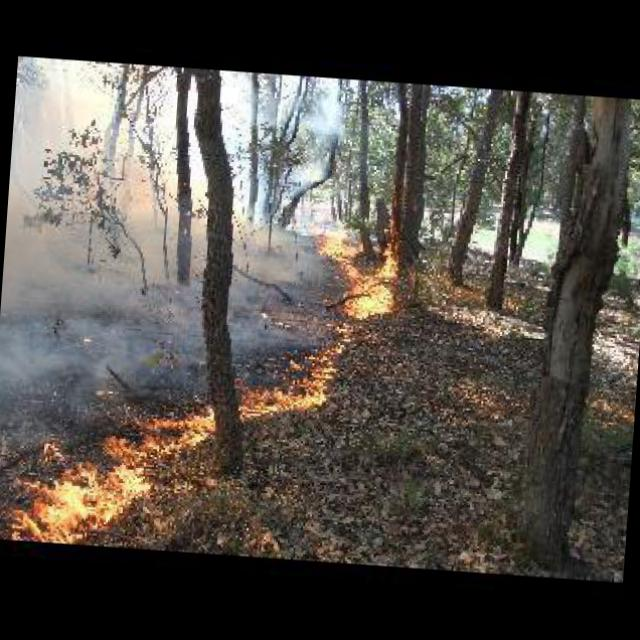fire: (11, 194, 406, 562)
